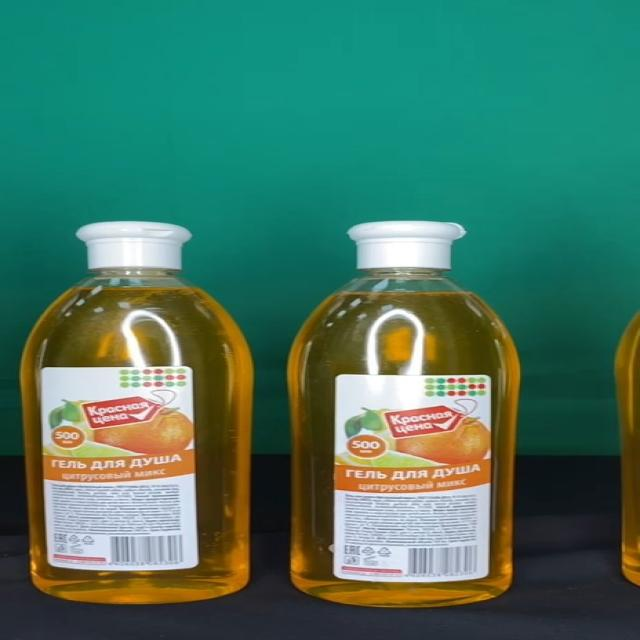Bottle: (287, 221, 520, 608), (20, 221, 254, 604)
Cap: (346, 221, 464, 269), (78, 222, 194, 269)
